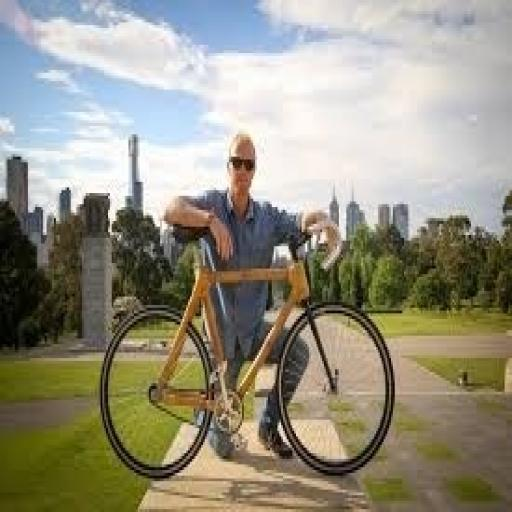cycling: (162, 128, 341, 462)
